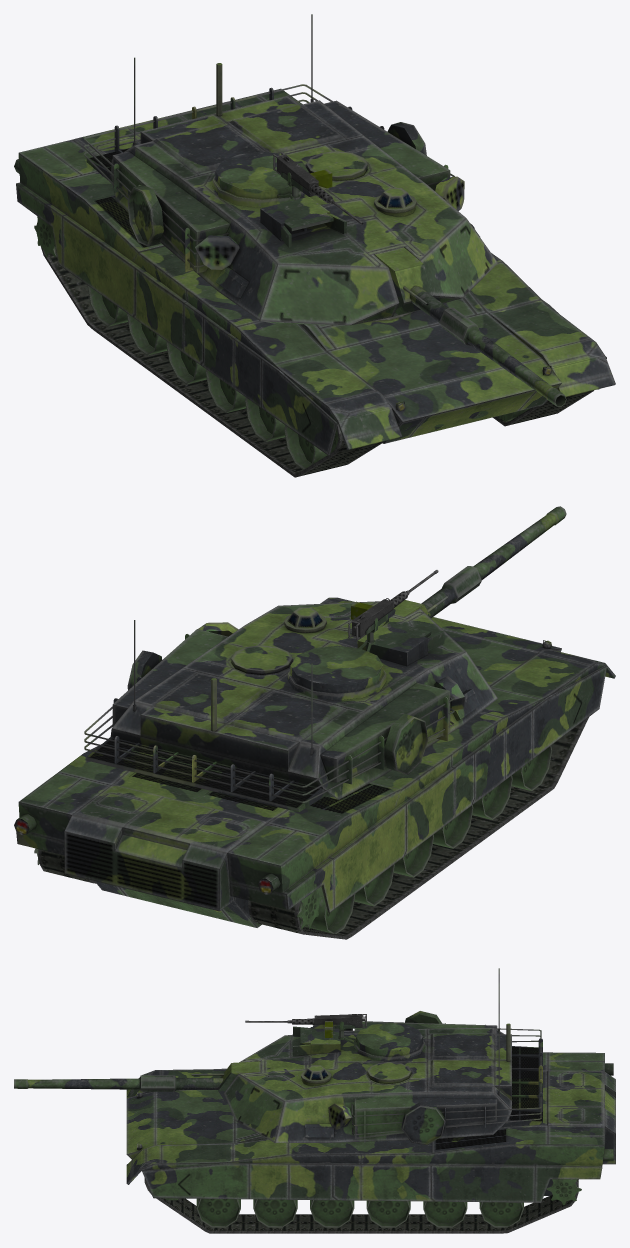
3 renders of one model, top to bottom at view 1: azimuth 30°, elevation 25°; view 2: azimuth 150°, elevation 25°; view 3: azimuth 270°, elevation 25°, orthographic. The views are drawn at different scales.
Parts seen in each view (by area): view 1: M1a2, turret, tracks, Main Cannon, 50 Cal gun Caliber, 50 Cal; view 2: M1a2, turret, tracks, 50 Cal gun Caliber, Main Cannon, 50 Cal; view 3: M1a2, turret, tracks, Main Cannon, 50 Cal gun Caliber, 50 Cal.
Boxes of the visible parts, box(x1,y1,x2,y2) form: M1a2: box(14, 88, 615, 469); turret: box(84, 14, 497, 325); tracks: box(40, 246, 593, 477); Main Cannon: box(374, 247, 566, 406); 50 Cal gun Caliber: box(212, 151, 308, 207); 50 Cal: box(273, 152, 363, 224); M1a2: box(14, 597, 615, 933); turret: box(84, 601, 497, 812); tracks: box(38, 717, 588, 939); 50 Cal gun Caliber: box(287, 617, 386, 700); Main Cannon: box(393, 506, 566, 617); 50 Cal: box(348, 570, 438, 640); M1a2: box(126, 1052, 615, 1227); turret: box(223, 968, 542, 1144); tracks: box(144, 1178, 578, 1233); Main Cannon: box(14, 1061, 260, 1102); 50 Cal gun Caliber: box(338, 1021, 424, 1061); 50 Cal: box(245, 1014, 366, 1037).
Size of the model in its own units: 4.29 by 3.9 by 11.27.
1 material, 1 textured.
